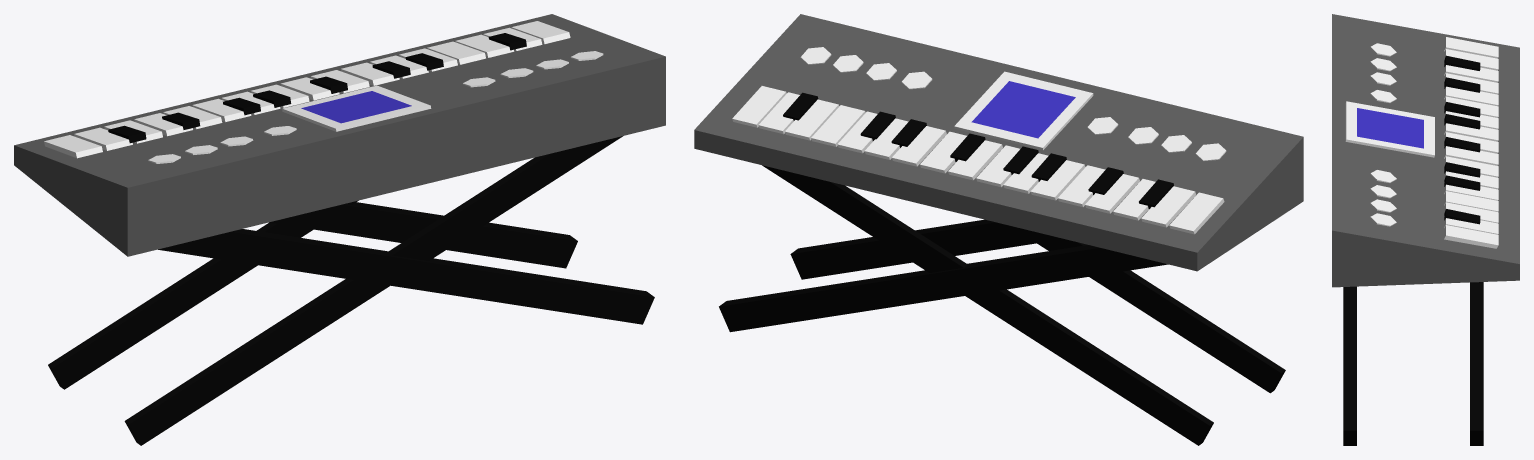
Rendered from Teclado.fbx.
3 renders of one model, left to right at view 1: azimuth 30°, elevation 25°; view 2: azimuth 150°, elevation 25°; view 3: azimuth 270°, elevation 25°, orthographic. The views are drawn at different scales.
Parts seen in each view (by area): view 1: Cube; view 2: Cube; view 3: Cube.
Boxes of the visible parts, bbox=[...] form: Cube: bbox=[14, 14, 665, 445]; Cube: bbox=[694, 14, 1303, 445]; Cube: bbox=[1332, 14, 1519, 445].
Size of the model in its own units: 172 by 82.59 by 63.07.
